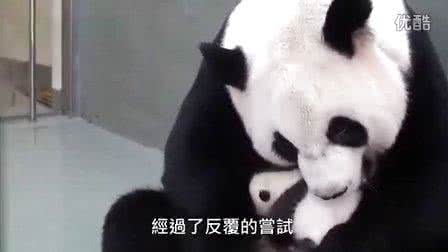panda: (101, 2, 448, 250)
